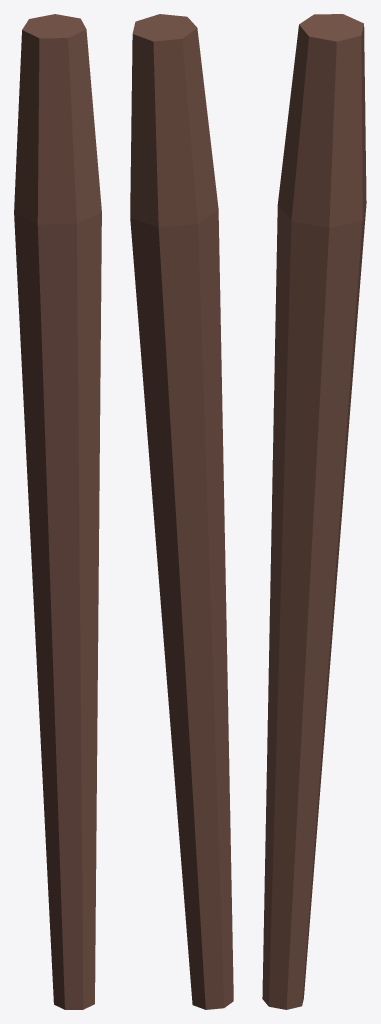
3 views of the same model, side by side, from view 1: azimuth 90°, elevation 25°; view 2: azimuth 150°, elevation 25°; view 3: azimuth 330°, elevation 25° (orthographic).
Parts seen in each view (by area): view 1: group_1973245097; view 2: group_1973245097; view 3: group_1973245097.
Boxes of the visible parts, box(x1,y1,x2,y2) form: group_1973245097: box(14, 14, 101, 1009); group_1973245097: box(130, 14, 233, 1009); group_1973245097: box(262, 14, 366, 1009).
Bounding box in the file's own units: 16.58 × 176 × 14.62.
